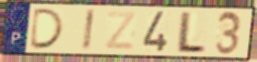3: (214, 9, 243, 57)
4: (140, 10, 170, 54)
D: (28, 7, 66, 50)
I: (80, 8, 97, 52)
L: (173, 10, 208, 55)
Z: (104, 10, 139, 52)
